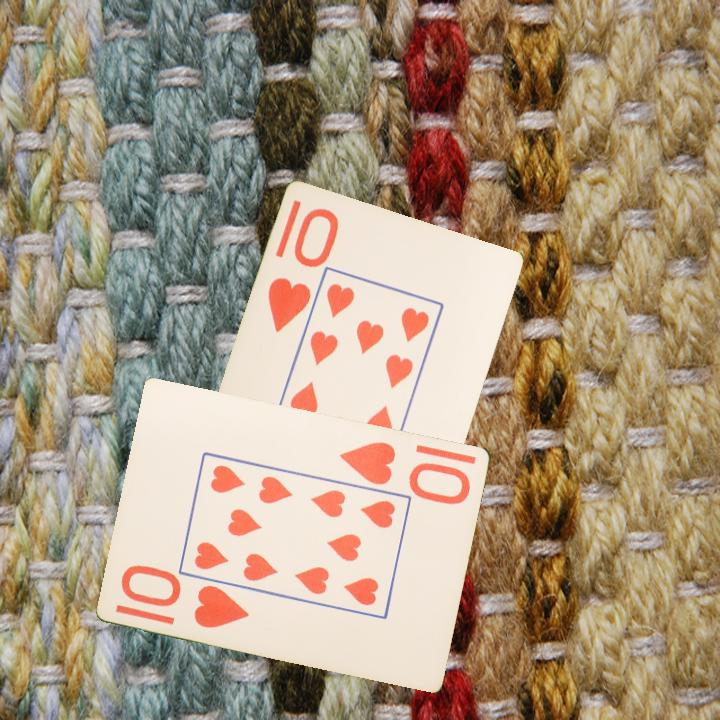10h: (264, 205, 340, 336), (336, 438, 474, 505), (118, 564, 253, 631)
